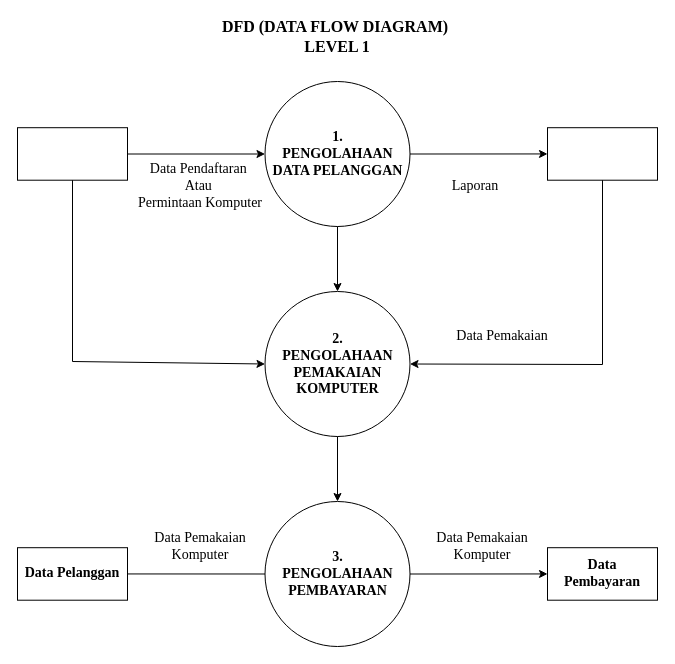
Image size: 675x664. Some labels were removed from this diagram. Here are the shapes that lost their labels. From the top down, the box of each, then its label:
(16, 127, 128, 180): Pelanggan
(546, 127, 658, 180): Pemilik Warnet
